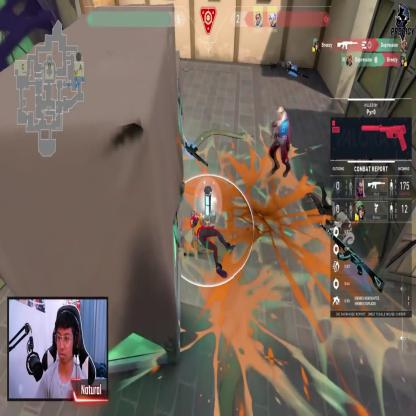enemy: (269, 104, 292, 182)
enemy_head: (278, 106, 284, 120)
